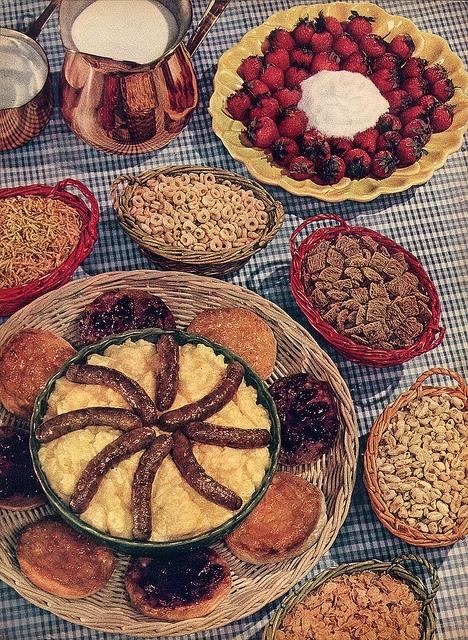strawberry: (278, 102, 309, 138), (346, 10, 377, 44), (248, 116, 280, 148), (248, 90, 280, 122), (310, 12, 334, 54), (314, 154, 346, 184), (299, 128, 331, 158), (401, 119, 434, 148), (344, 148, 372, 182), (429, 102, 457, 134), (291, 14, 317, 48), (272, 136, 301, 166), (369, 150, 400, 178), (332, 32, 359, 64), (366, 68, 400, 93), (400, 76, 430, 104), (388, 32, 416, 62), (396, 138, 428, 164), (340, 50, 372, 76), (382, 90, 414, 116), (266, 28, 300, 52), (260, 62, 284, 96), (310, 49, 340, 76), (360, 31, 390, 57), (353, 128, 380, 156), (398, 106, 432, 128), (241, 78, 272, 102), (272, 86, 302, 110), (227, 90, 251, 120), (306, 140, 330, 168), (289, 156, 317, 180), (422, 63, 448, 88), (398, 57, 425, 81), (375, 112, 402, 136), (376, 130, 402, 154), (241, 55, 263, 82), (266, 48, 290, 72), (290, 44, 314, 68), (285, 66, 310, 88), (410, 95, 442, 112), (372, 52, 402, 70), (432, 78, 454, 102), (330, 137, 353, 159), (325, 16, 344, 38)
